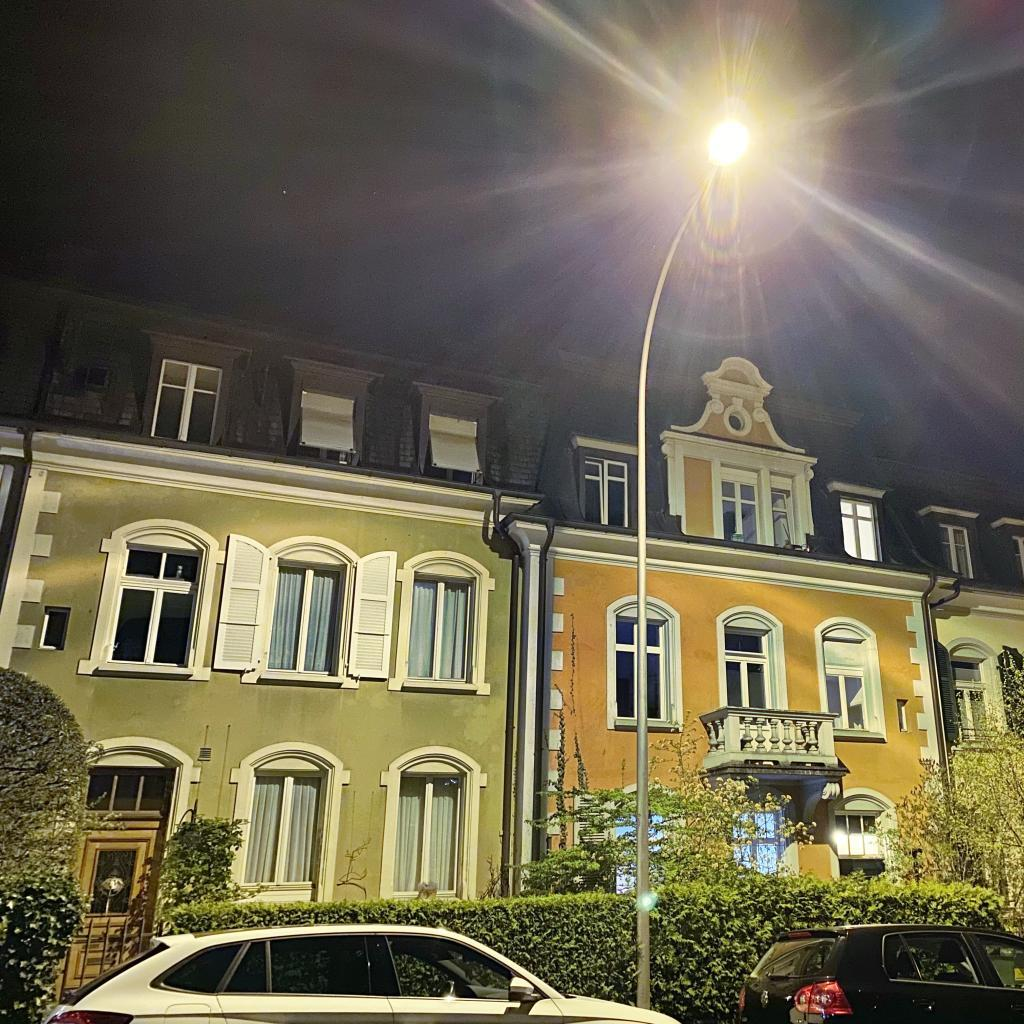car: (39, 922, 684, 1024), (736, 923, 1024, 1024)
facade: (0, 225, 1024, 1012)
fence: (48, 911, 141, 1009)
traffic-infrastructure: (635, 117, 751, 1007)
vegetation: (100, 611, 1024, 1024), (0, 665, 128, 1024)
window: (106, 542, 203, 667), (266, 557, 347, 677), (242, 769, 325, 885), (393, 770, 465, 897), (407, 573, 476, 684), (150, 357, 224, 444), (616, 805, 678, 892), (616, 616, 667, 720), (727, 804, 793, 878), (822, 635, 871, 731), (724, 626, 769, 727), (294, 389, 354, 464), (424, 411, 479, 485), (949, 655, 997, 739), (581, 455, 629, 528), (835, 811, 892, 861), (720, 478, 760, 544), (839, 497, 878, 561), (937, 522, 974, 579), (38, 606, 72, 650), (772, 487, 795, 549), (1008, 535, 1024, 589), (729, 414, 743, 430)
